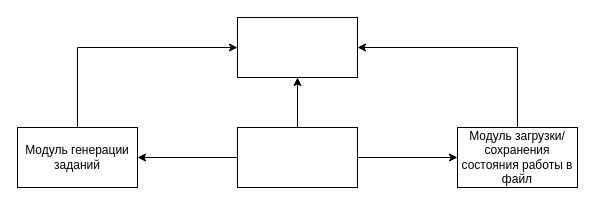
Image size: 595x205. Some labels were removed from this diagram. The shapes that lost their labels are listed below. From the top down, each one's centre as x and y in pixels, then its label:
the point at 297,47: Модуль обработки добавления/изменения команд
the point at 297,157: Модуль графического интерфейса
